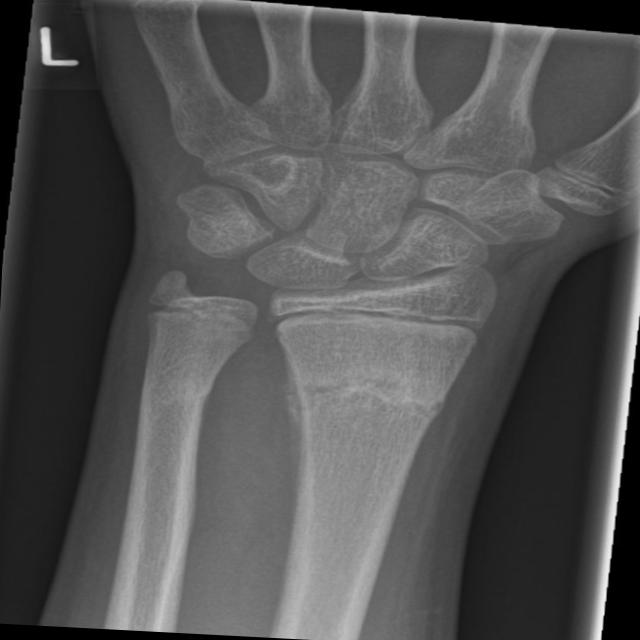fracture: (271, 357, 464, 436), (255, 290, 500, 352), (130, 282, 274, 344)
